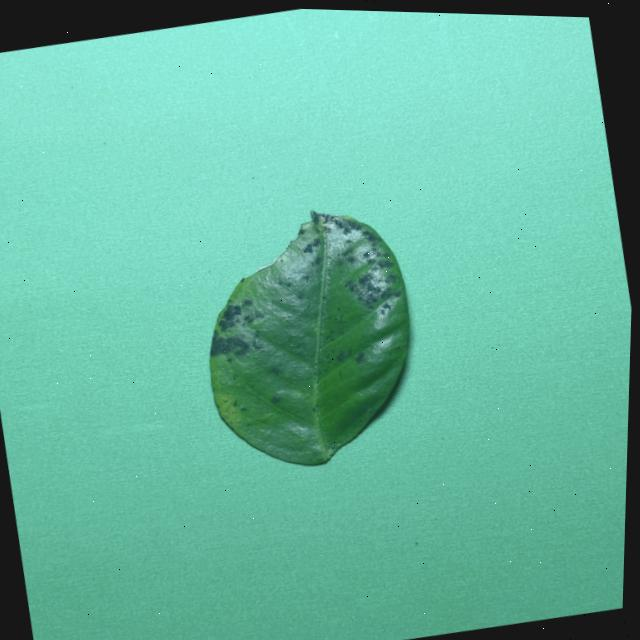sooty_mold: (209, 210, 408, 464)
